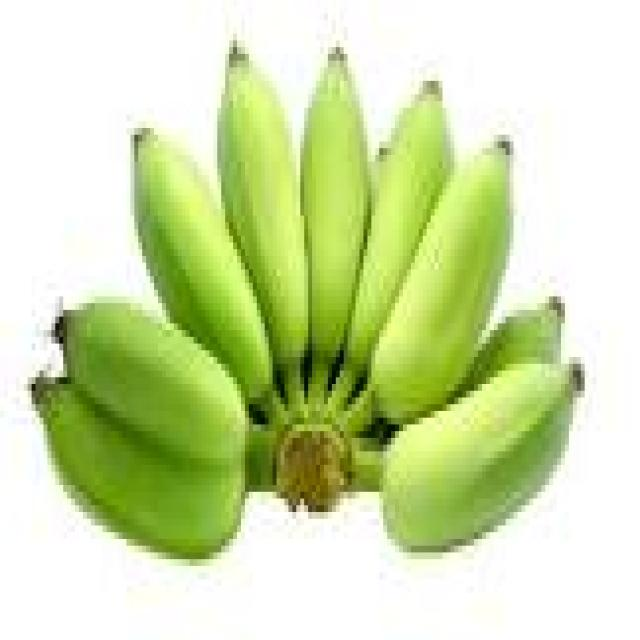banana: (328, 81, 454, 410), (372, 142, 509, 424), (32, 378, 244, 559), (135, 128, 272, 404), (384, 364, 580, 552), (218, 48, 308, 410), (56, 304, 248, 464), (301, 48, 367, 410), (463, 297, 564, 390)
